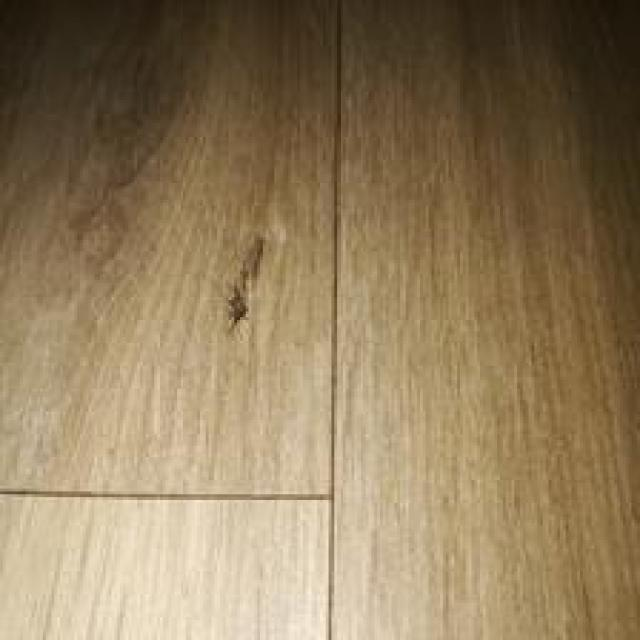Culex: (223, 235, 266, 332)
